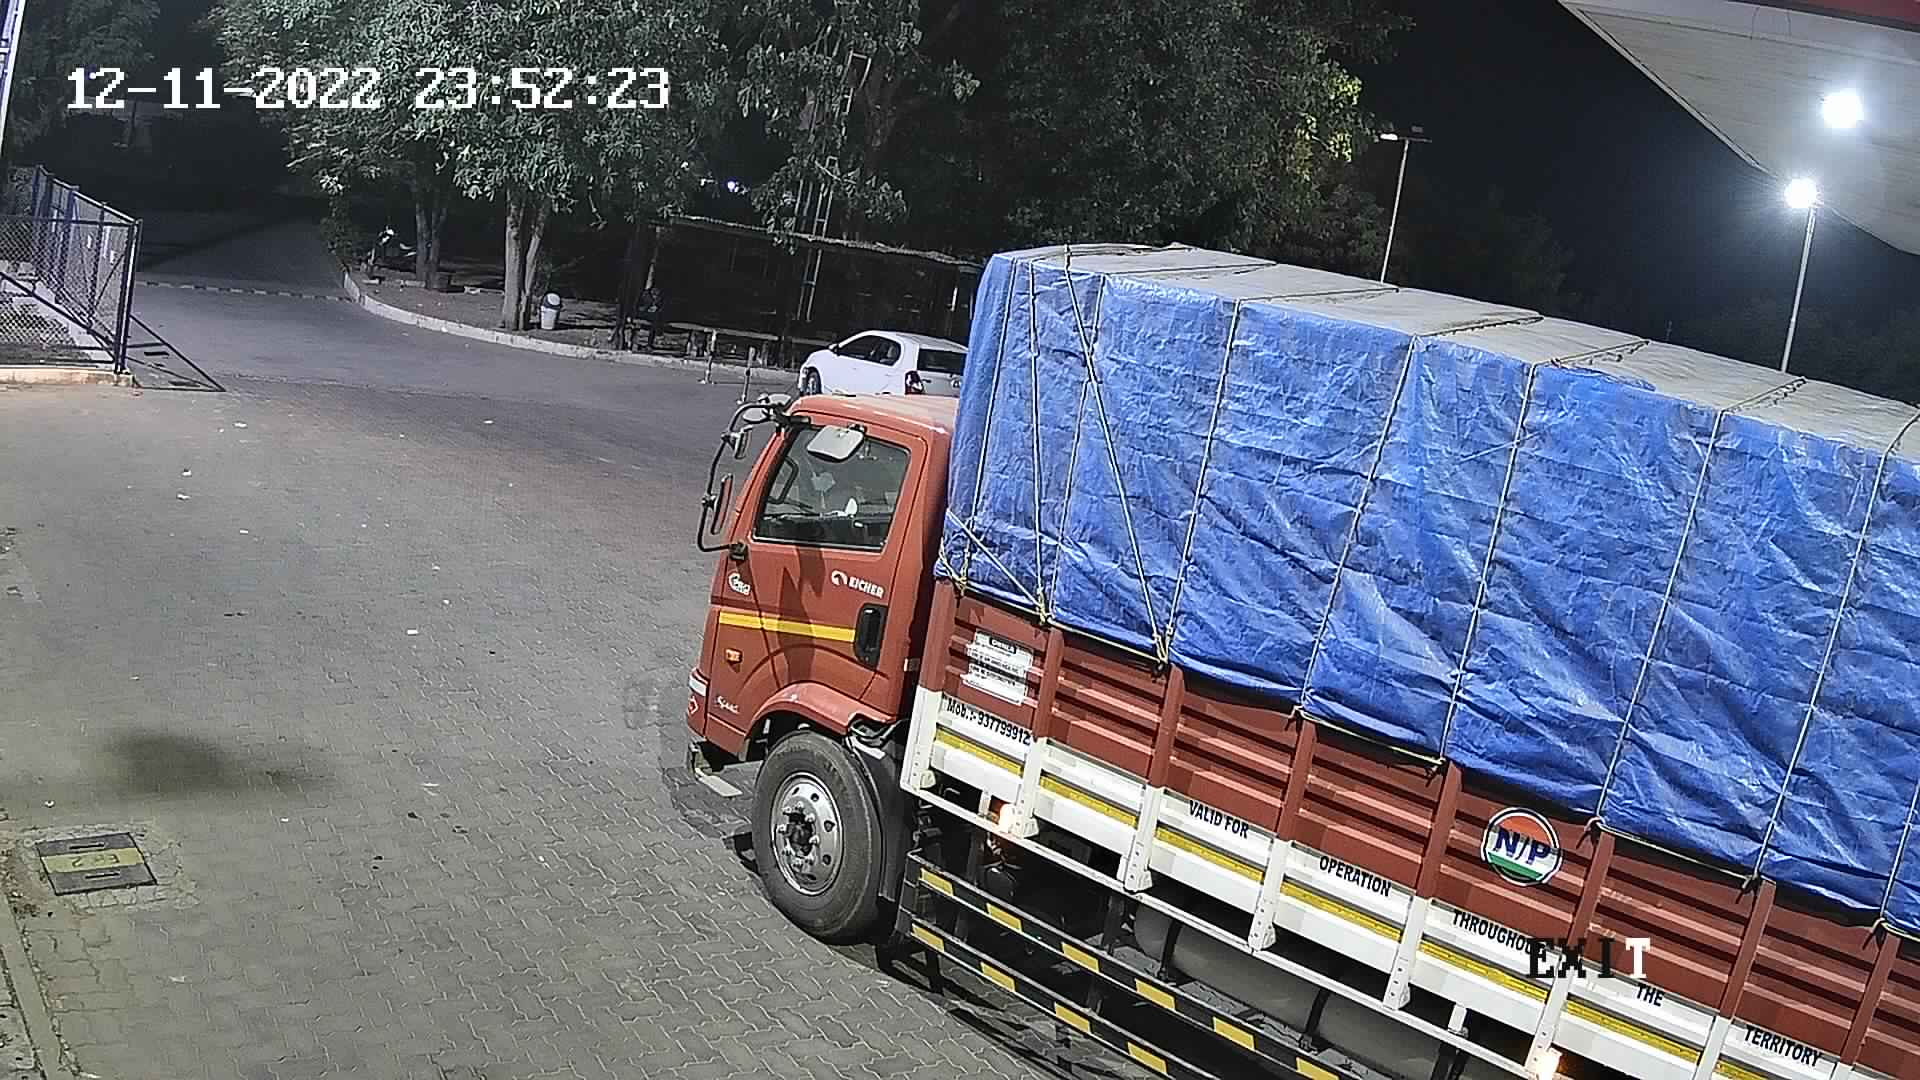Bike: (357, 208, 423, 284)
Car: (786, 318, 975, 407)
HMV: (678, 233, 1917, 1077)
